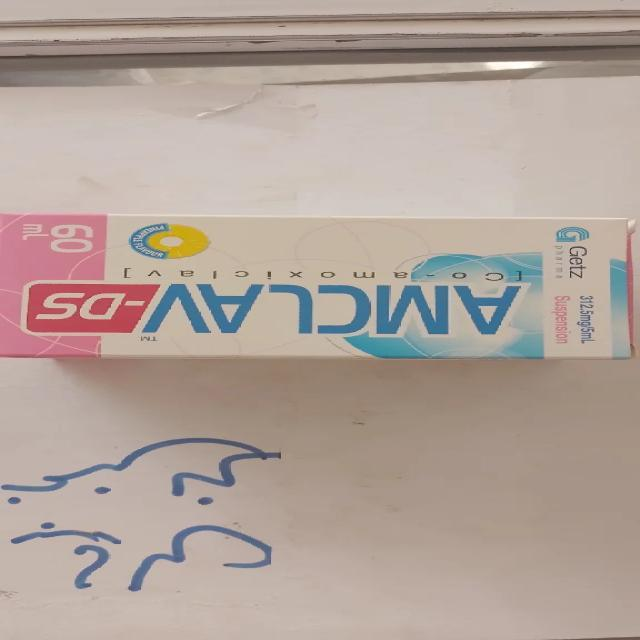drug-name: (32, 282, 522, 338)
